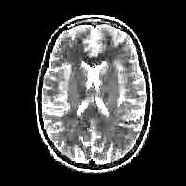Normal_Brain: (1, 1, 186, 186)
